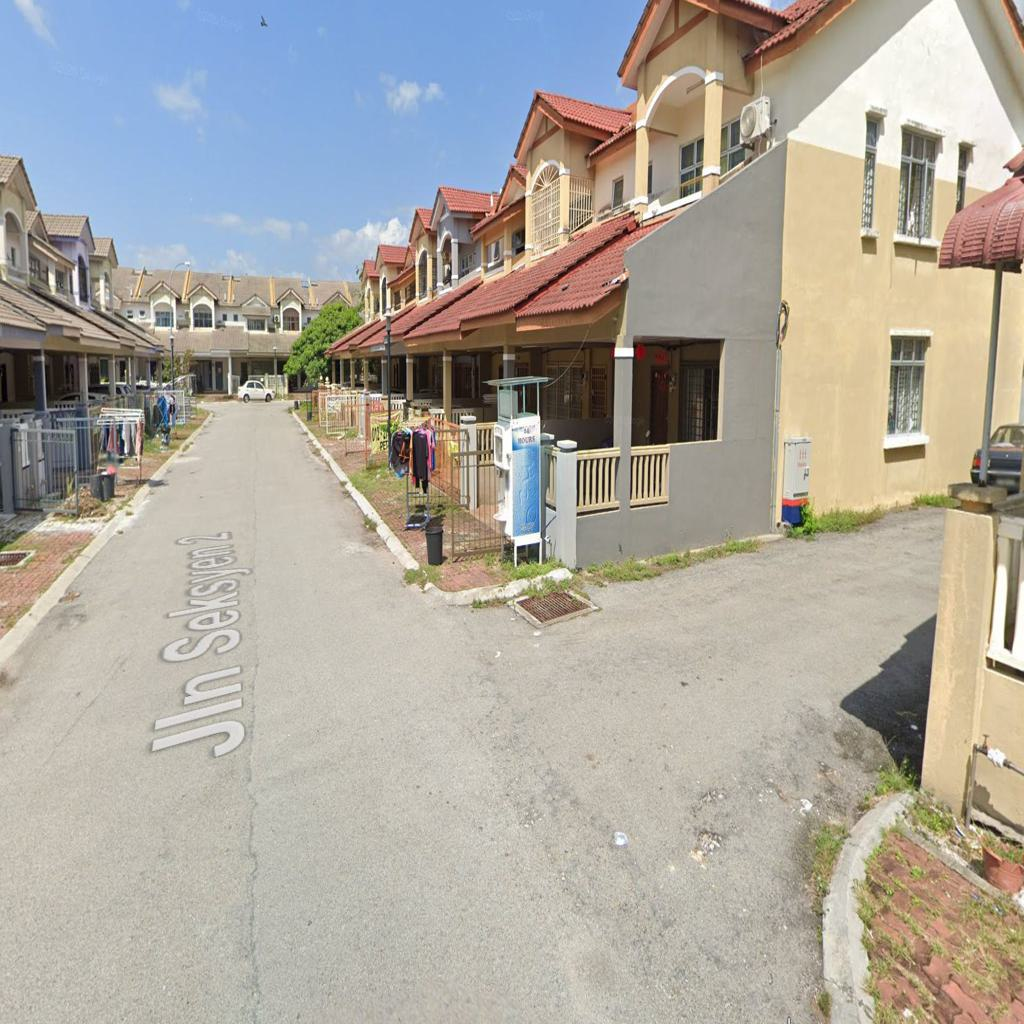Junction: (438, 523, 925, 938)
